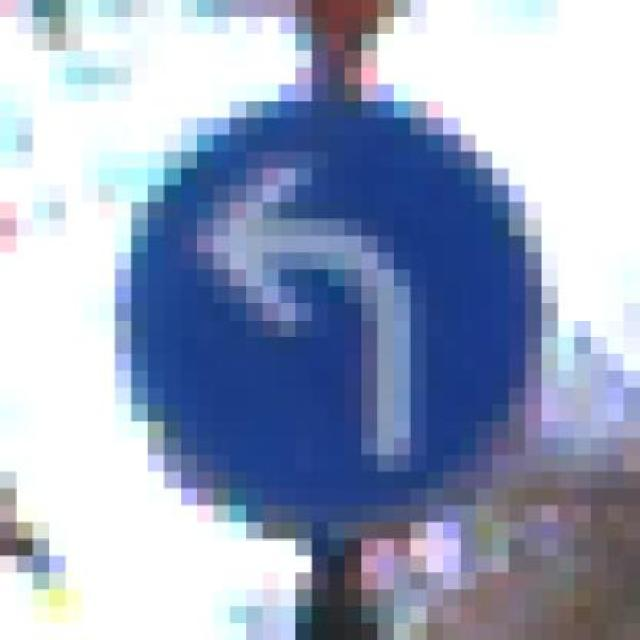Turn left ahead: (98, 84, 574, 556)
